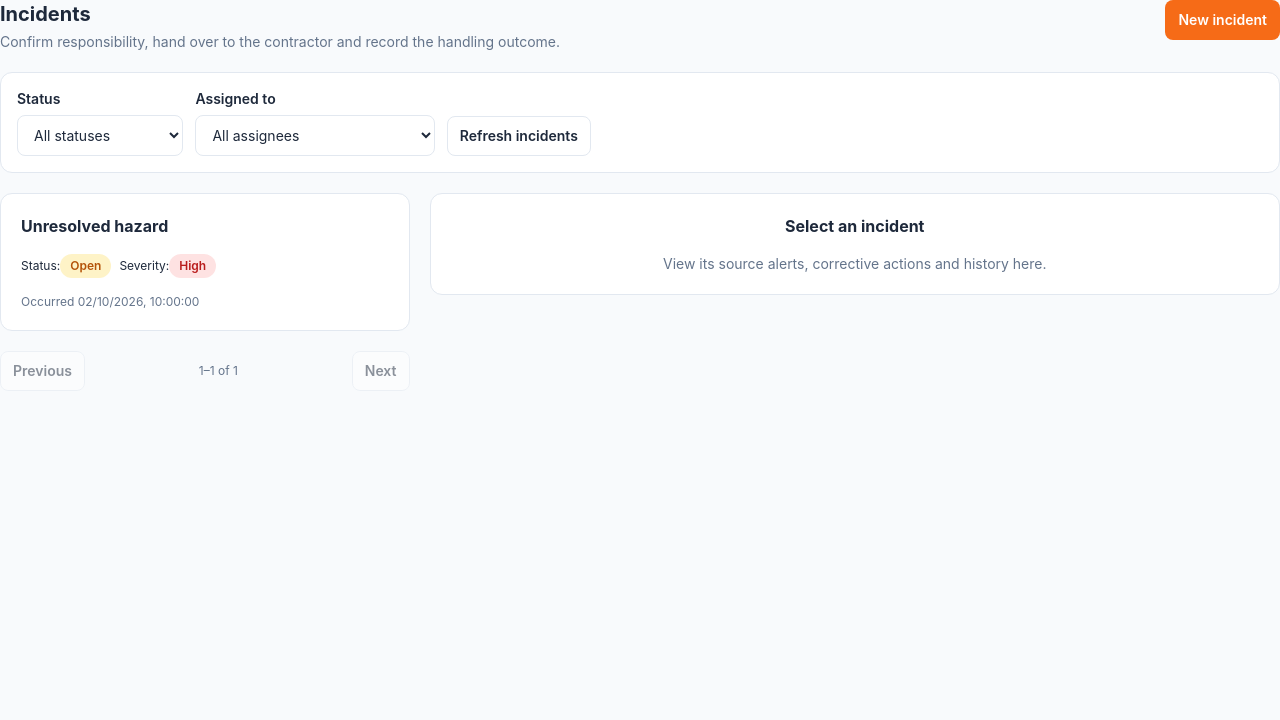
Safety must confirm responsibility before assignment and unknown Worker remains allowed
Click the button "Unresolved hazard": (205, 262) [0,193,410,331]
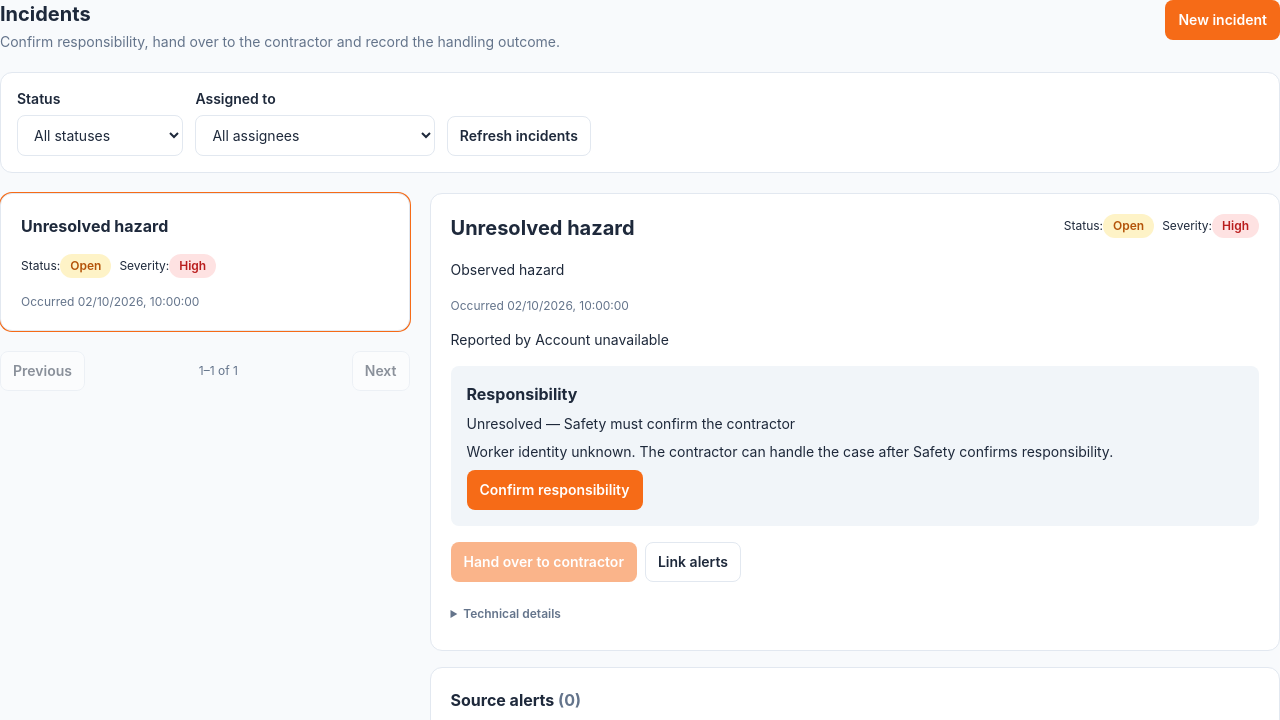
Check: the button "Hand over to contractor" is disabled, box [450,542,637,582]
Click the button "Confirm responsibility": (554, 490) [466,470,642,510]
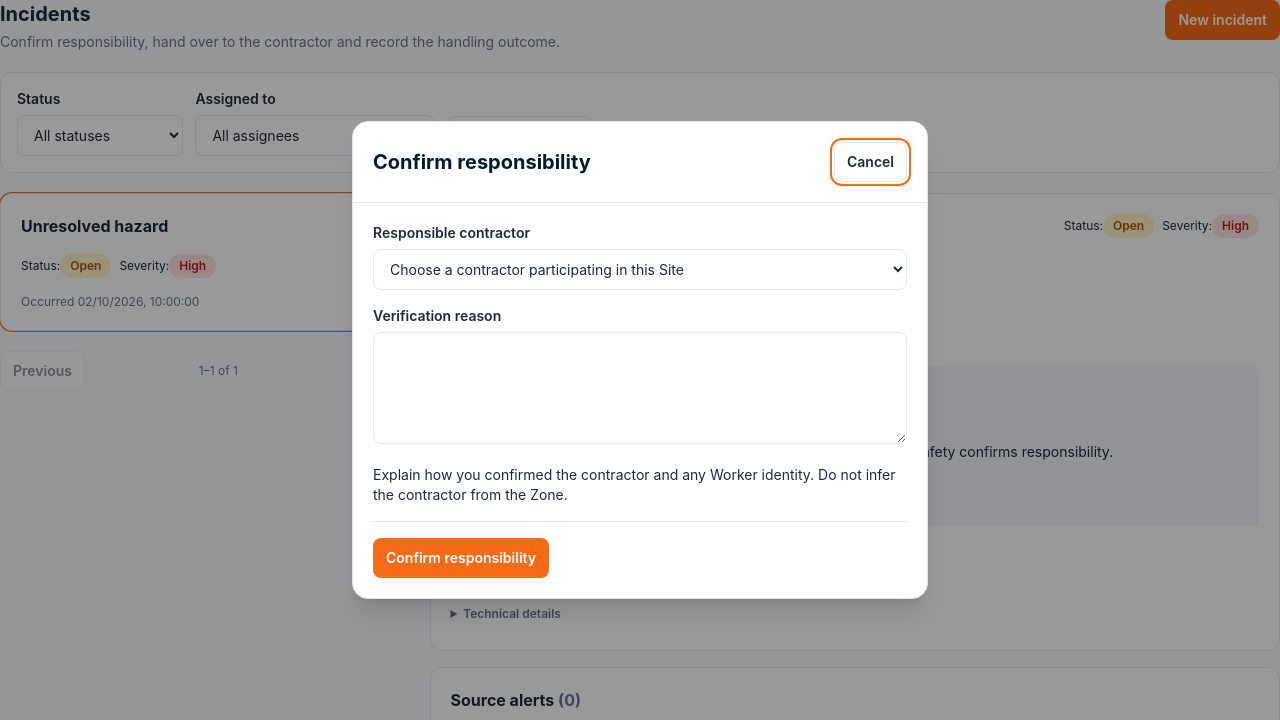
Select "Contractor A" in the dropdown labelled "Responsible contractor": (640, 270) [373,249,907,290]
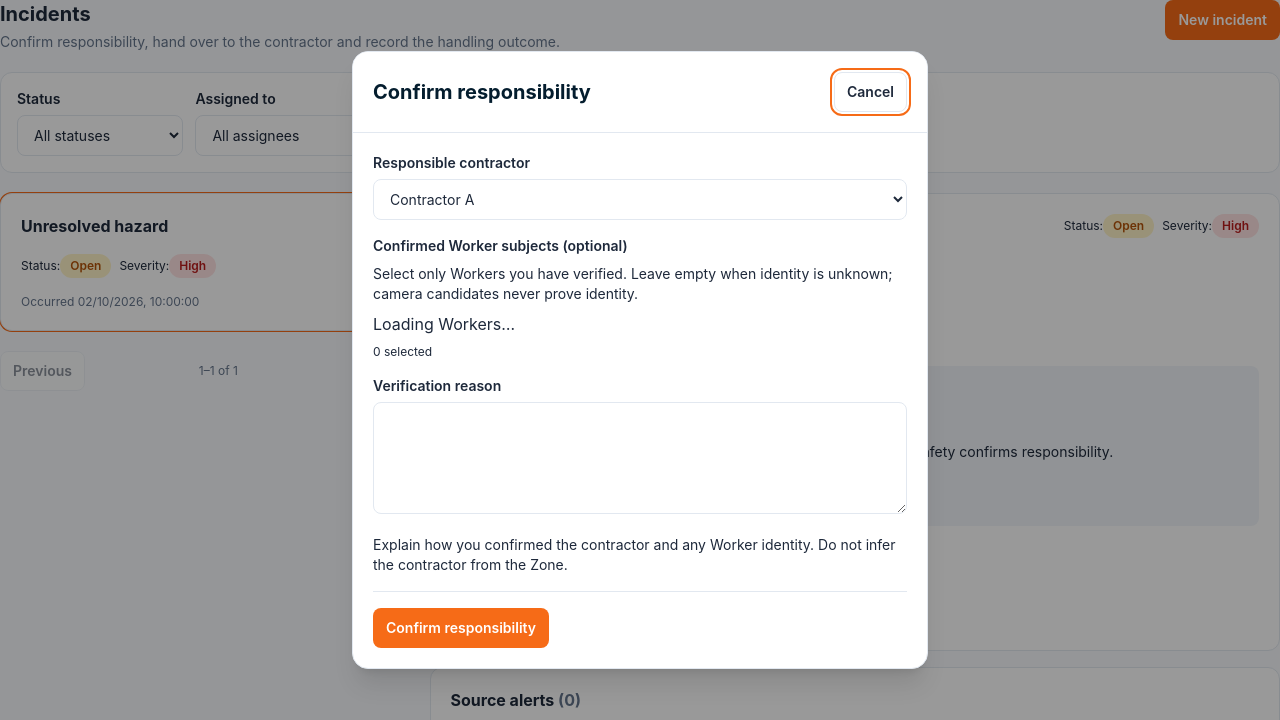
In the text box labelled "Verification reason": (640, 458) [373,402,907,514], type "Safety verified contractor; Worker unknown"
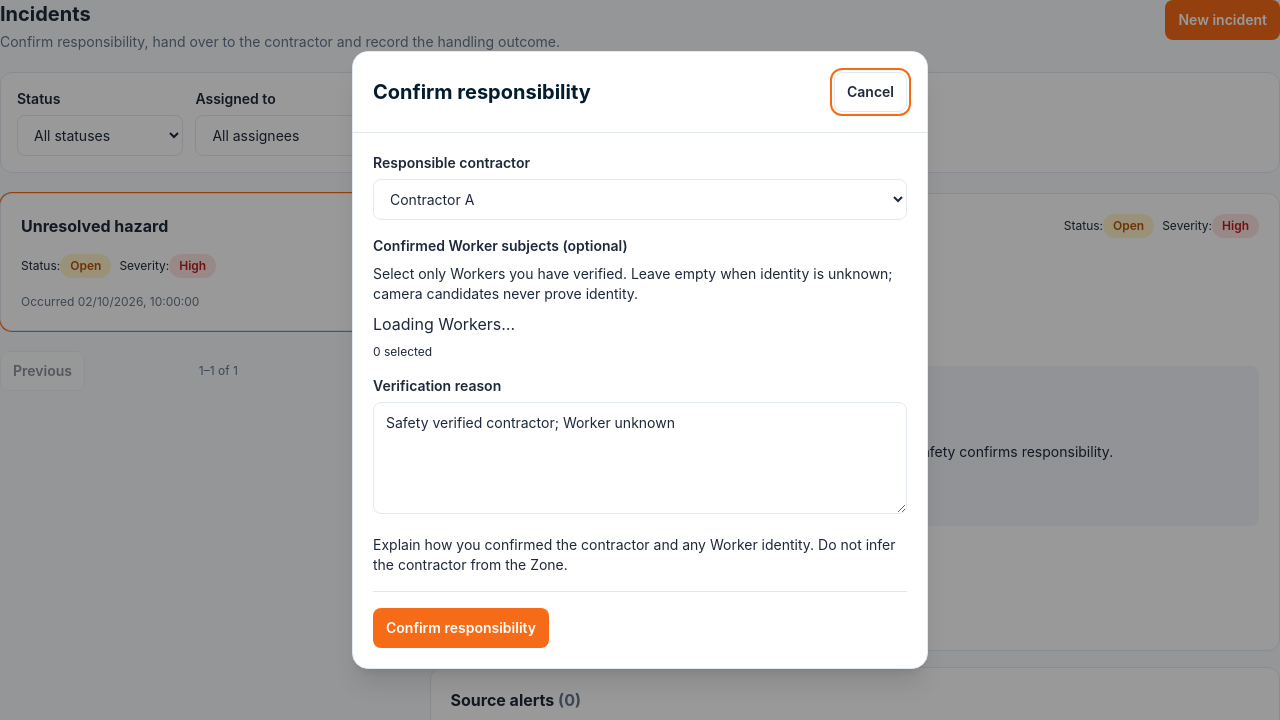
Click the button "Confirm responsibility": (461, 628) [373,608,549,648]
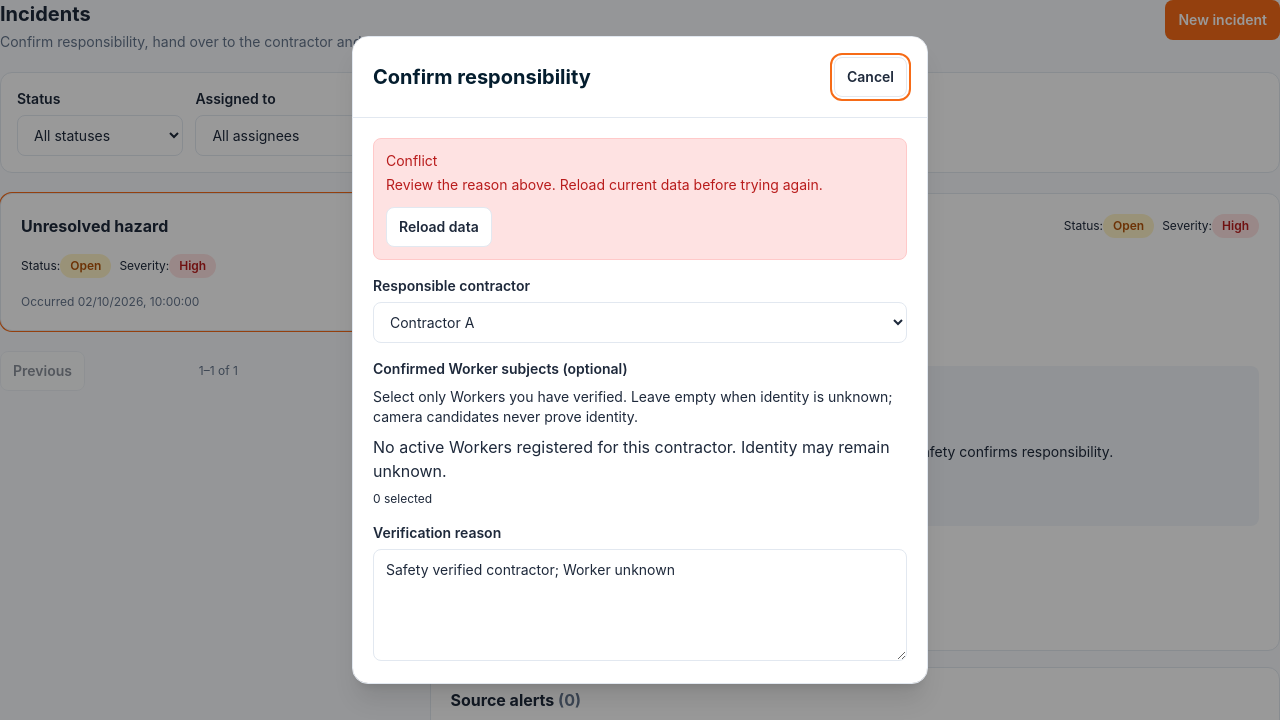
Check: the dialog "Confirm responsibility" is shown, box [352,36,928,684]
Check: the button "Reload data" is shown, box [386,207,492,247]
